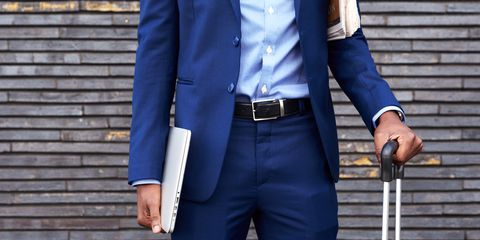F_M_suit jacket: (119, 1, 406, 189)
F_belt: (227, 96, 318, 119)
F_dress pants: (177, 109, 345, 240)
